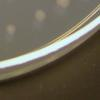white: (31, 8, 49, 24), (4, 22, 18, 37), (54, 0, 74, 9)
